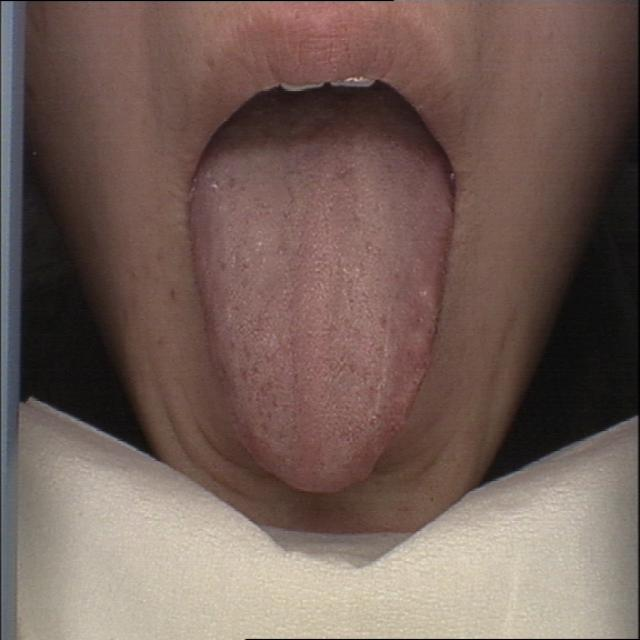tongue: (192, 99, 456, 496)
